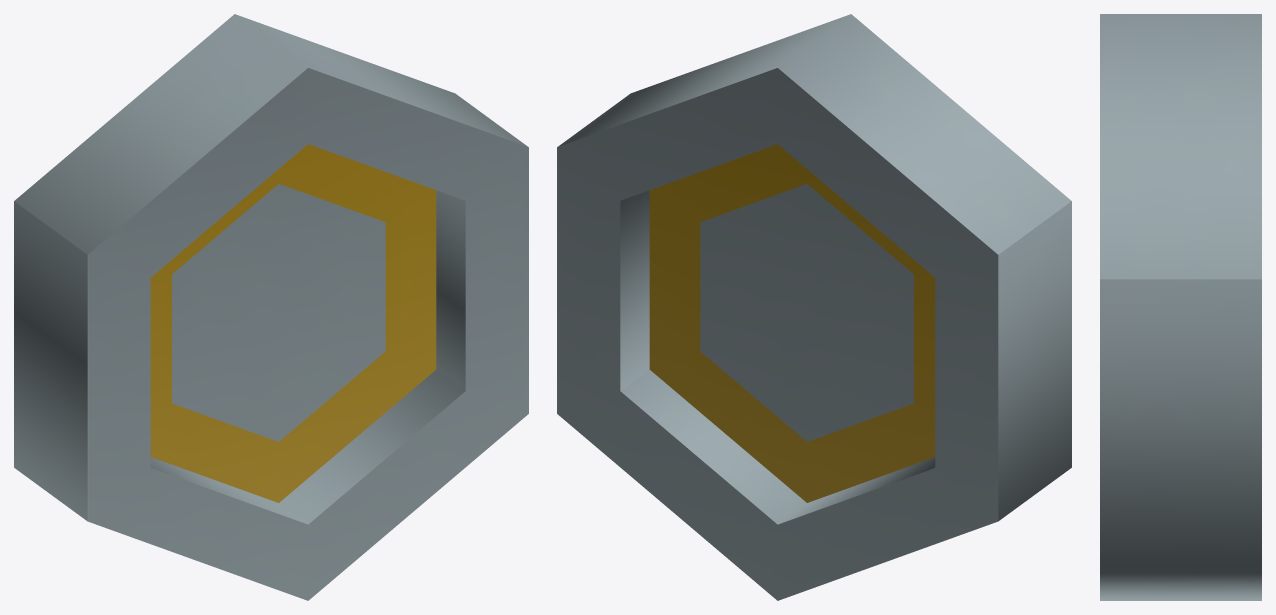
Rendered from coin.glb.
3 renders of one model, left to right at view 1: azimuth 30°, elevation 25°; view 2: azimuth 150°, elevation 25°; view 3: azimuth 270°, elevation 25°, orthographic. The views are drawn at different scales.
Parts seen in each view (by area): view 1: coin; view 2: coin; view 3: coin.
Boxes of the visible parts, x1,y1,x2,y2 form: coin: [14, 14, 528, 600]; coin: [557, 14, 1071, 600]; coin: [1100, 14, 1261, 600].
Bounding box in the file's own units: 0.3464 × 0.4 × 0.1.
1 material, 1 textured.
